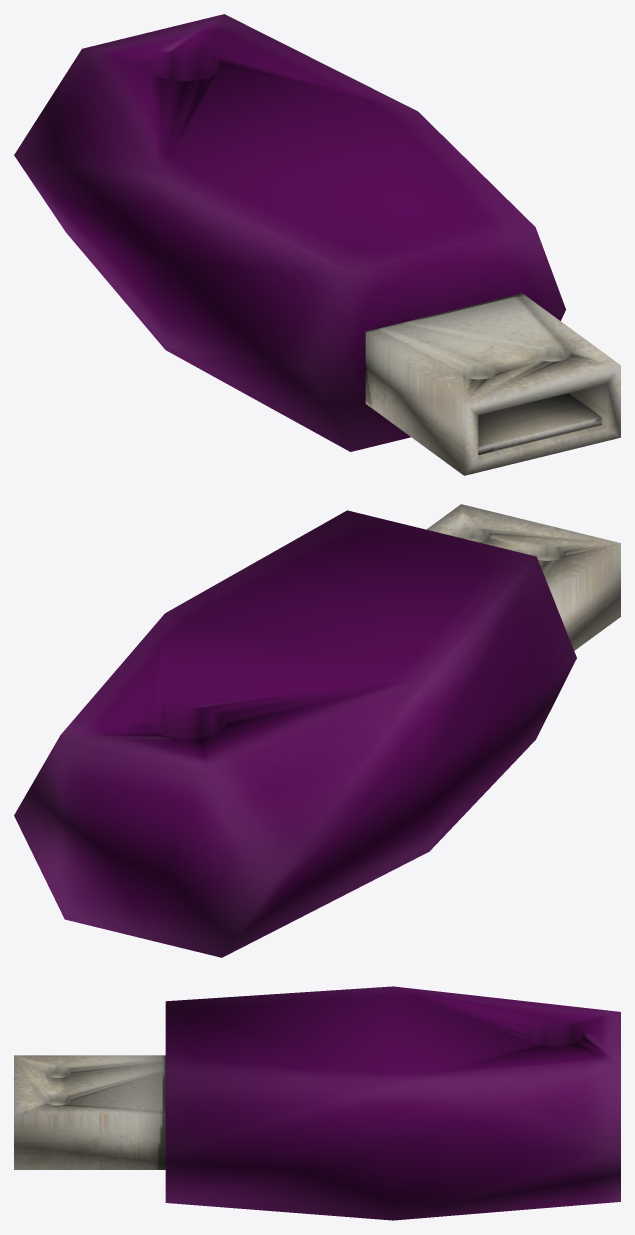
Rendered from Flash.obj.
3 views of the same model, one above another, from view 1: azimuth 30°, elevation 25°; view 2: azimuth 150°, elevation 25°; view 3: azimuth 270°, elevation 25° (orthographic). The views are drawn at different scales.
Visible parts, largest first — view 1: Box001, Box002, Box004; view 2: Box001, Box002; view 3: Box001, Box002.
Part boxes in pixels (x1=…): Box001: x1=14, y1=14, x2=565, y2=451; Box002: x1=365, y1=293, x2=620, y2=475; Box004: x1=478, y1=393, x2=601, y2=454; Box001: x1=14, y1=510, x2=576, y2=957; Box002: x1=426, y1=504, x2=620, y2=650; Box001: x1=165, y1=986, x2=620, y2=1220; Box002: x1=14, y1=1055, x2=165, y2=1169.
Bounding box in the file's own units: 11.04 × 7.41 × 29.5.
